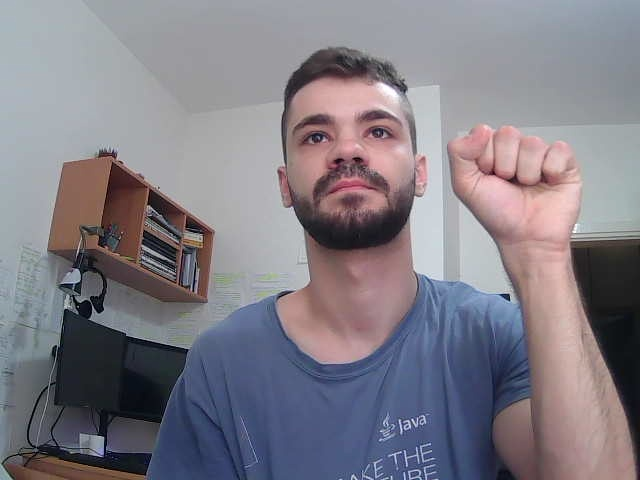a: (438, 107, 598, 267)
